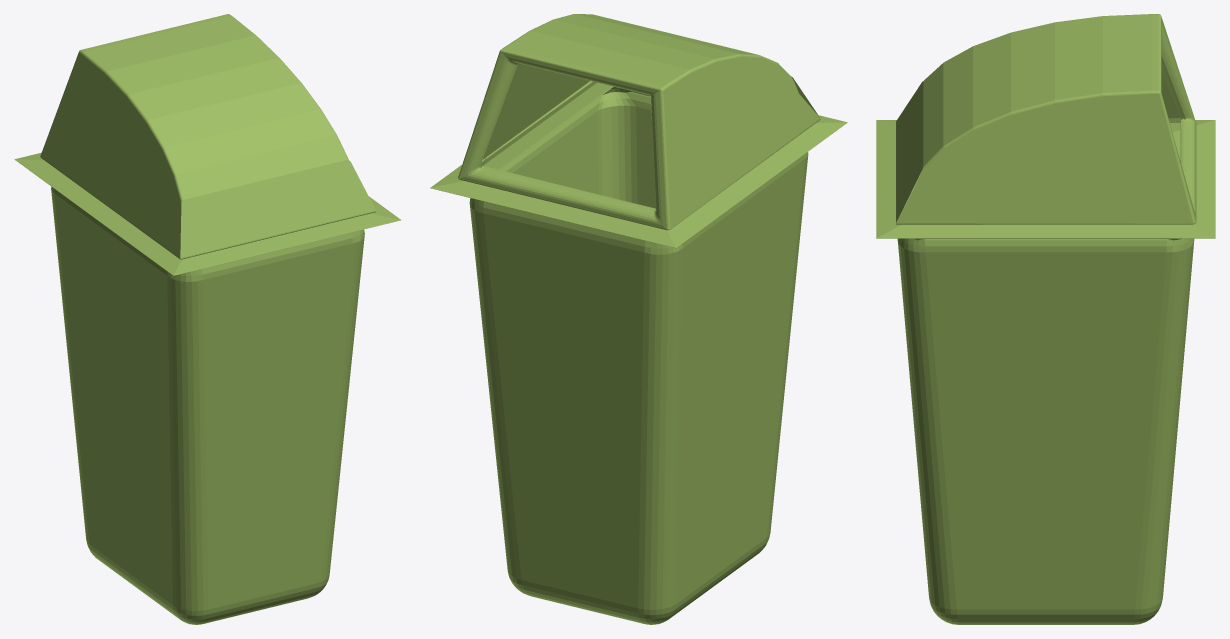
Rendered from TachoVerde_JuanG_46877595.fbx.
3 views of the same model, side by side, from view 1: azimuth 30°, elevation 25°; view 2: azimuth 150°, elevation 25°; view 3: azimuth 270°, elevation 25° (orthographic). The views are drawn at different scales.
Parts seen in each view (by area): view 1: Cube.003; view 2: Cube.003; view 3: Cube.003.
Boxes of the visible parts, left/top/right/bottom form: Cube.003: left=14, top=14, right=401, bottom=624; Cube.003: left=430, top=14, right=847, bottom=624; Cube.003: left=876, top=14, right=1215, bottom=624.
Size of the model in its own units: 28.93 by 61.69 by 34.97.
Materials: 1 (1 with a texture image).
